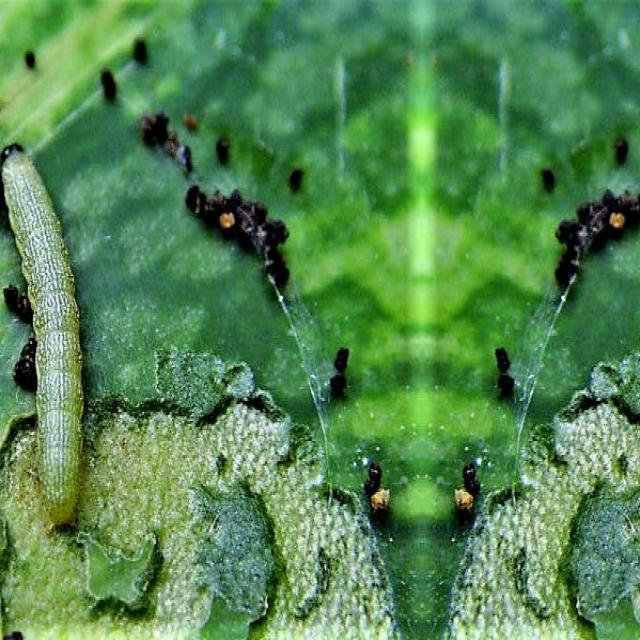Armyworm: (1, 129, 98, 539)
